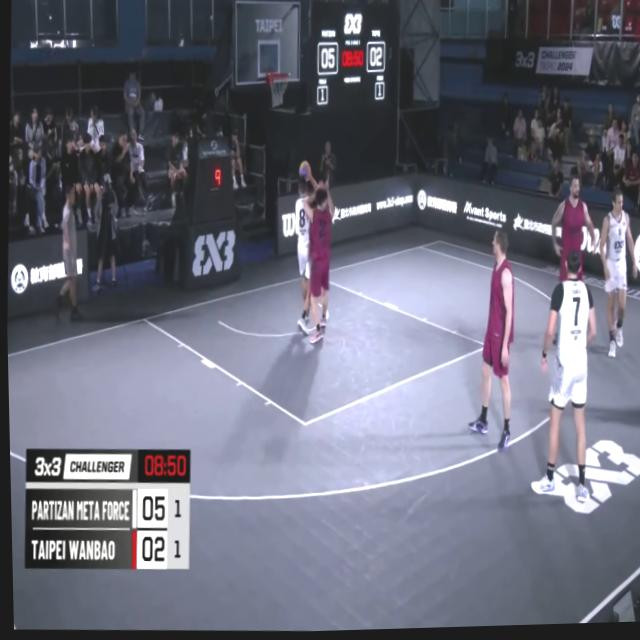ball: (296, 162, 309, 183)
hoop: (265, 72, 290, 112)
player: (520, 251, 599, 509), (458, 231, 517, 453), (545, 177, 599, 340), (592, 188, 639, 364), (298, 177, 337, 347), (288, 159, 322, 337)
